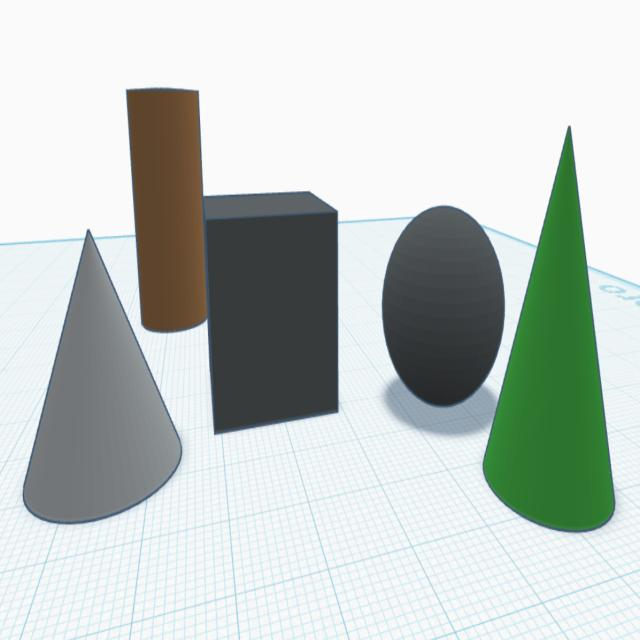cone: (480, 122, 620, 540), (16, 227, 183, 528)
cube: (198, 188, 344, 440)
sphere: (376, 201, 508, 413)
